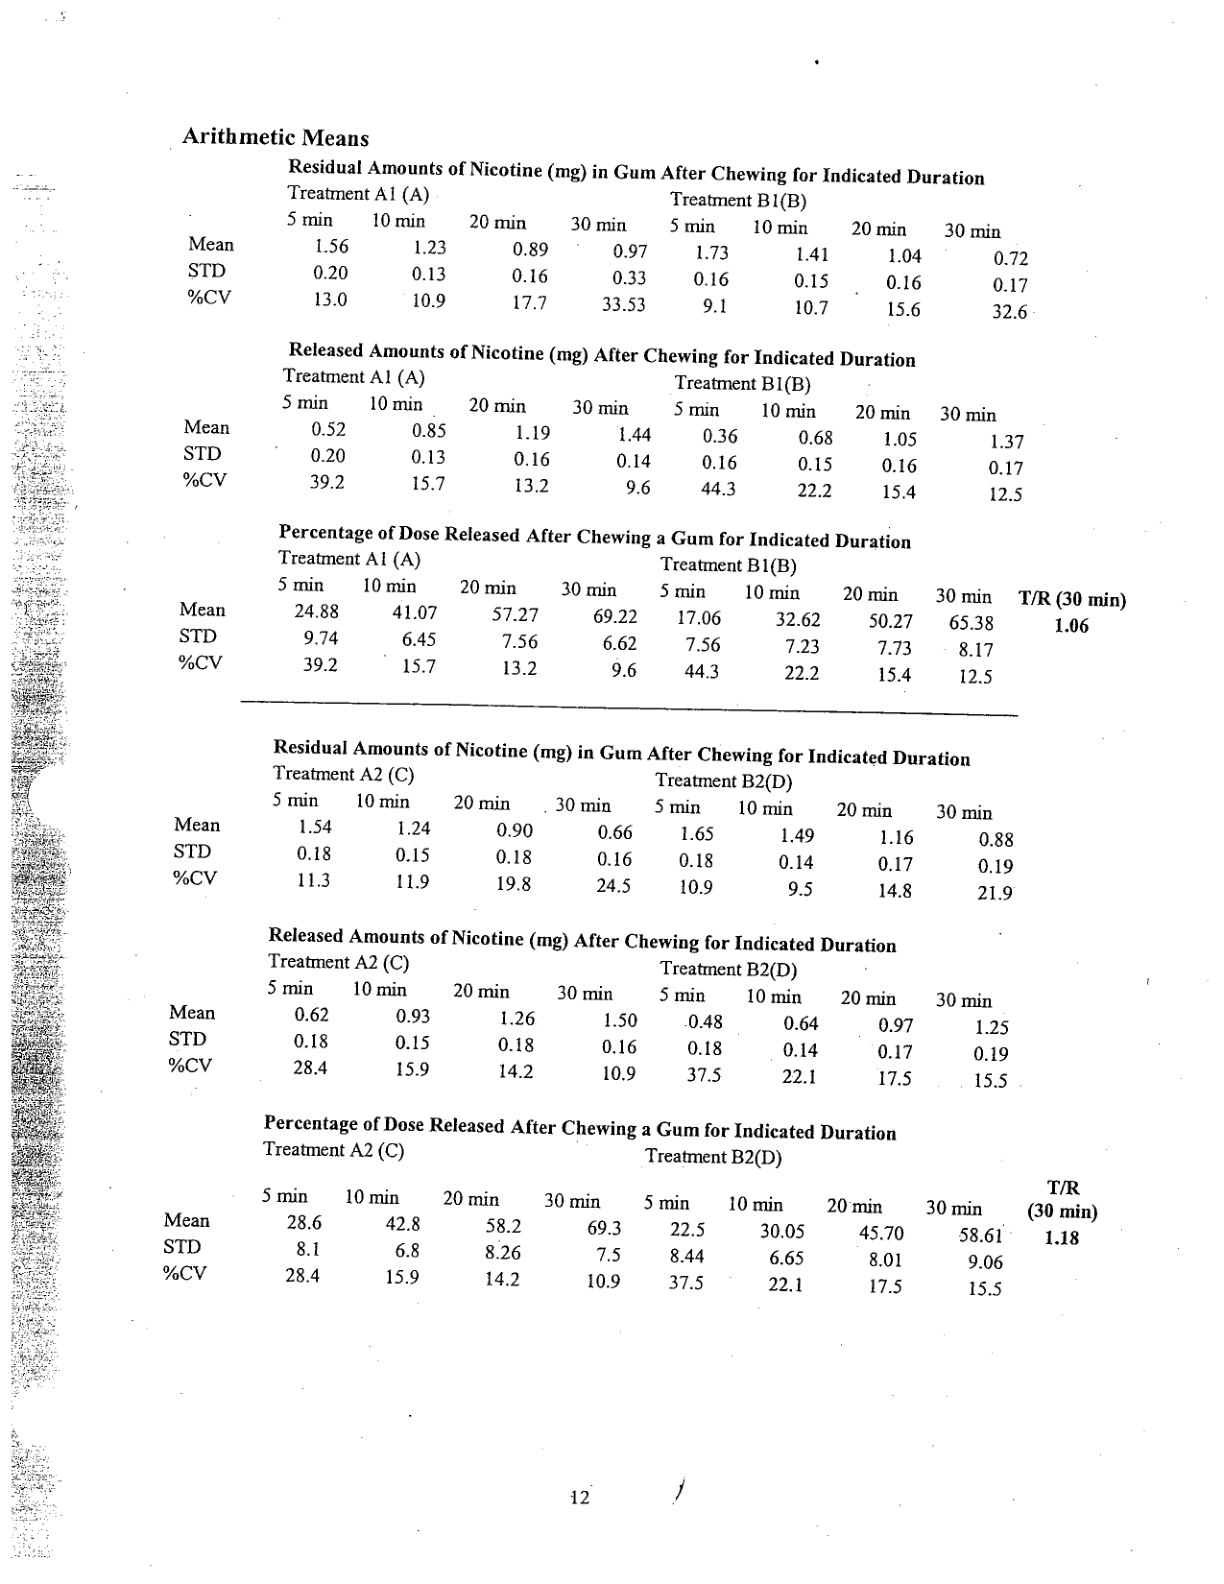nolines: (177, 552, 1130, 690), (185, 184, 1032, 327), (157, 1176, 1101, 1302), (167, 951, 1013, 1092), (170, 765, 1020, 901), (183, 368, 1029, 504)
